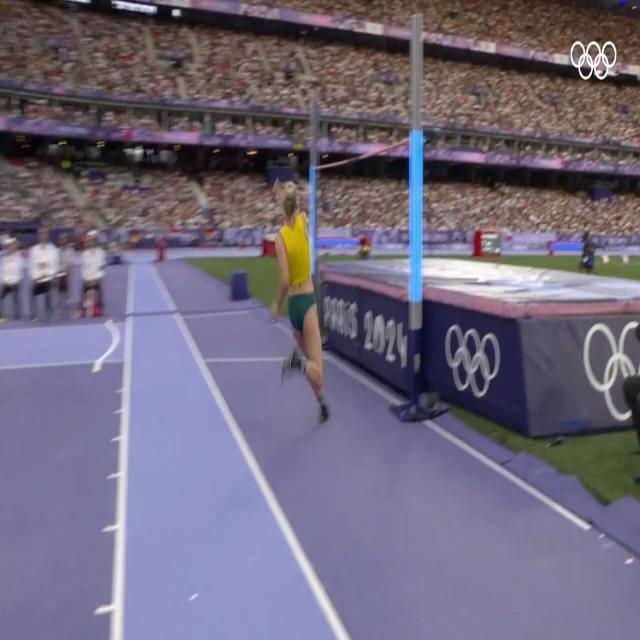run: (275, 183, 333, 427)
